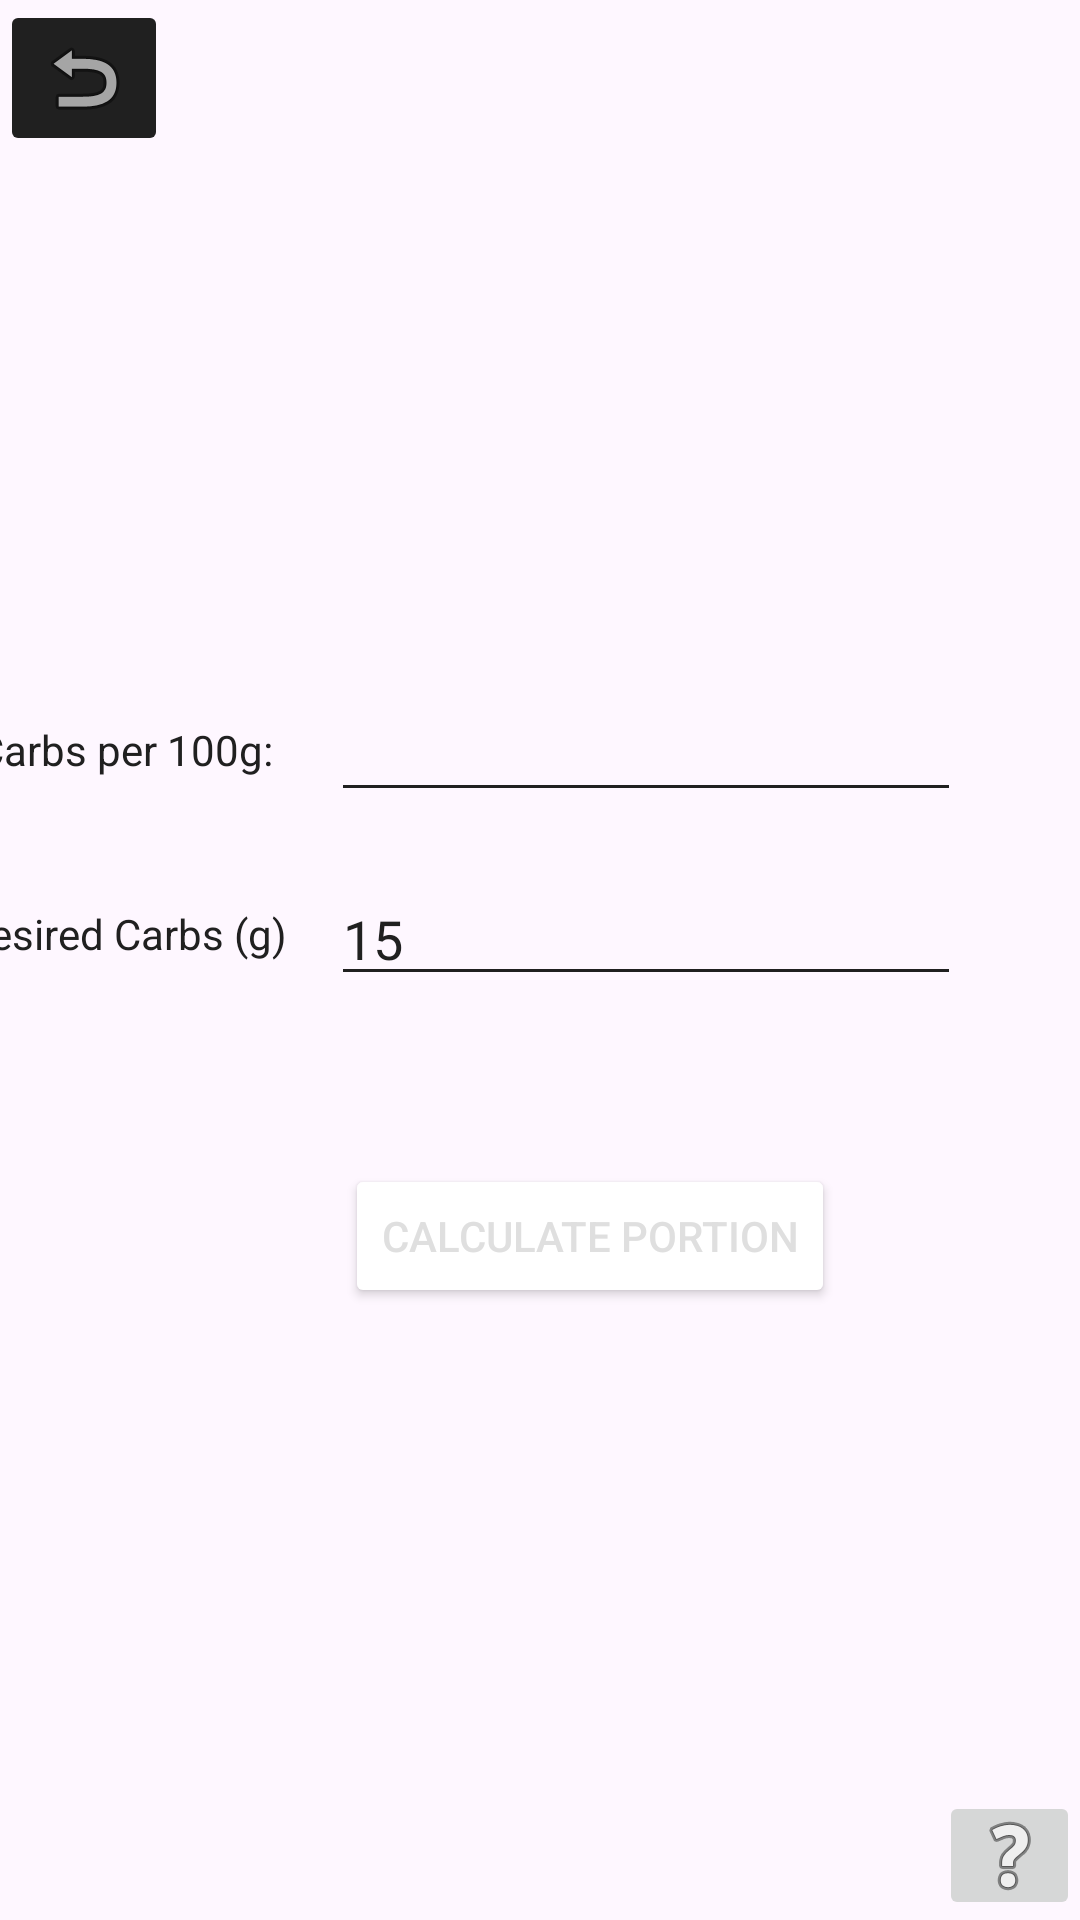

Locate icon controls on the screen. Image size 1080px x 1920px, boxes as (x1, y1, x2, y2).
help: (951, 1809, 1068, 1902)
revert: (12, 18, 156, 138)
